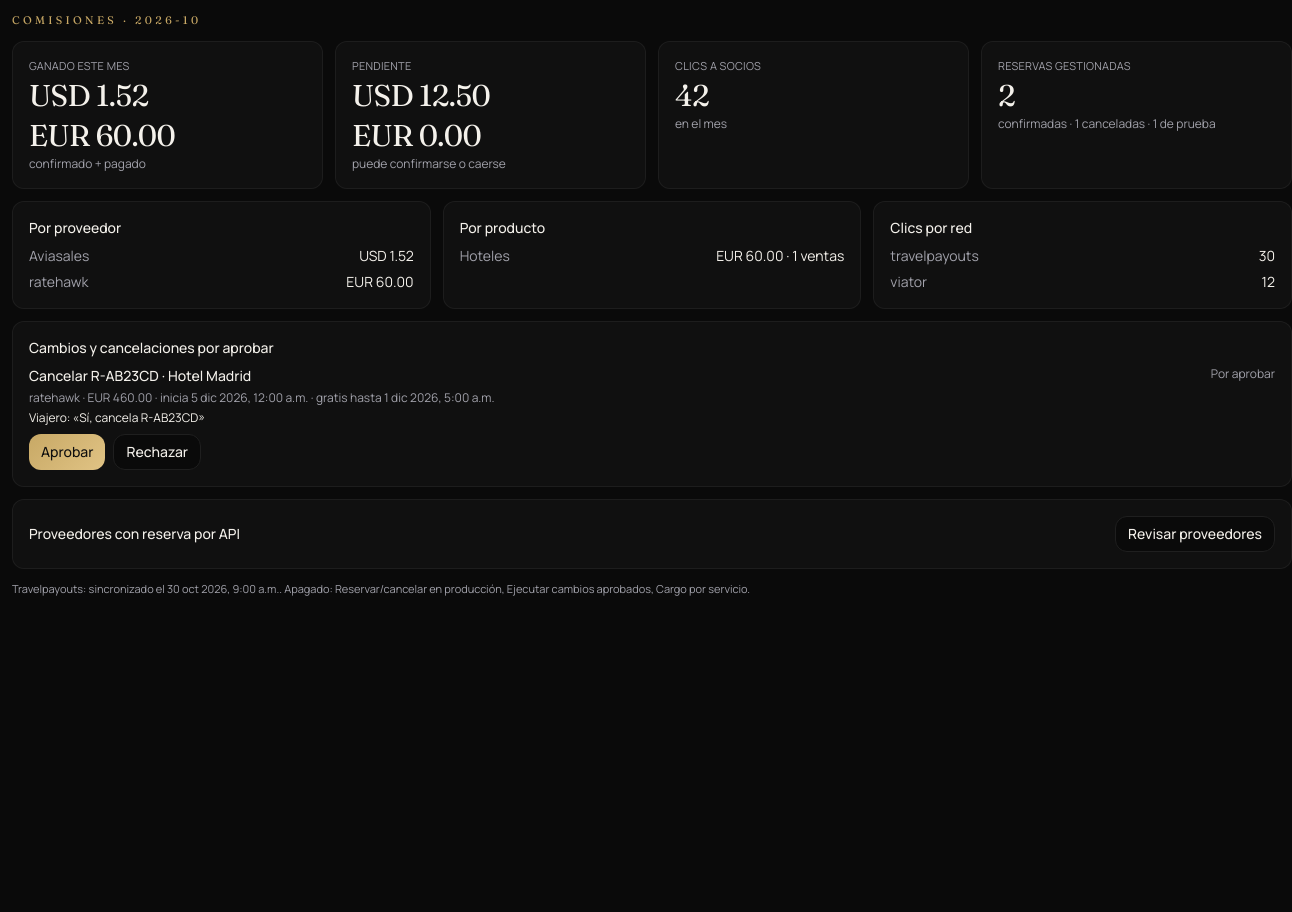
Test: AdminCommissionsCard › «Revisar proveedores» muestra qué tiene llave, el entorno, lo NO VERIFICADO y el nivel de Viator (solo lecturas)
This screenshot has width=1292, height=912.
Click the button "Revisar proveedores" at (1195, 534), box x1=1115 y1=516 x2=1275 y2=552
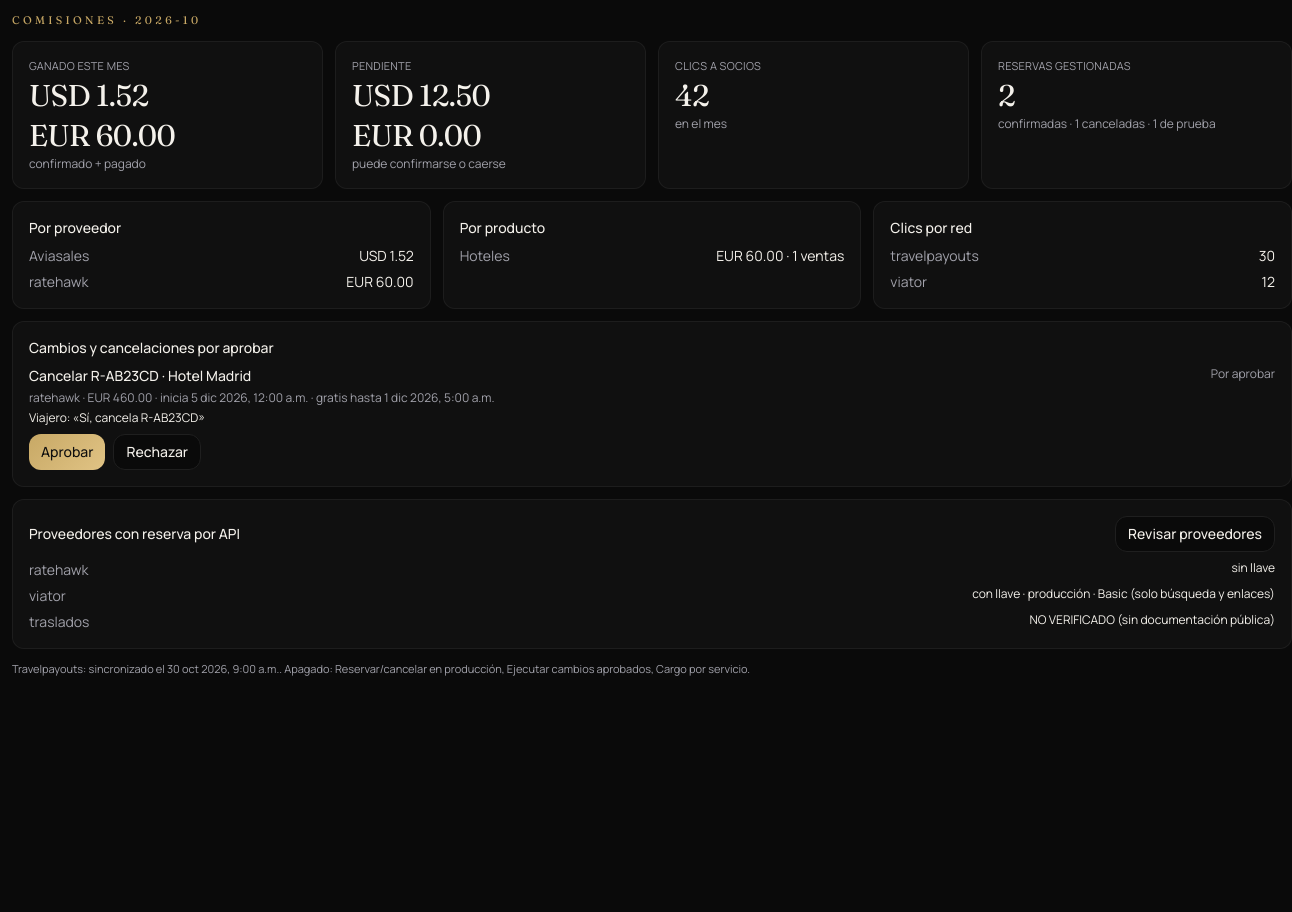
Check: the text "con llave · producción · Basic (solo búsqueda y enlaces)" is shown, box x1=972 y1=586 x2=1275 y2=606
Check: the text "NO VERIFICADO (sin documentación pública)" is shown, box x1=1030 y1=612 x2=1275 y2=632
Check: the text "sin llave" is shown, box x1=1232 y1=560 x2=1275 y2=580
